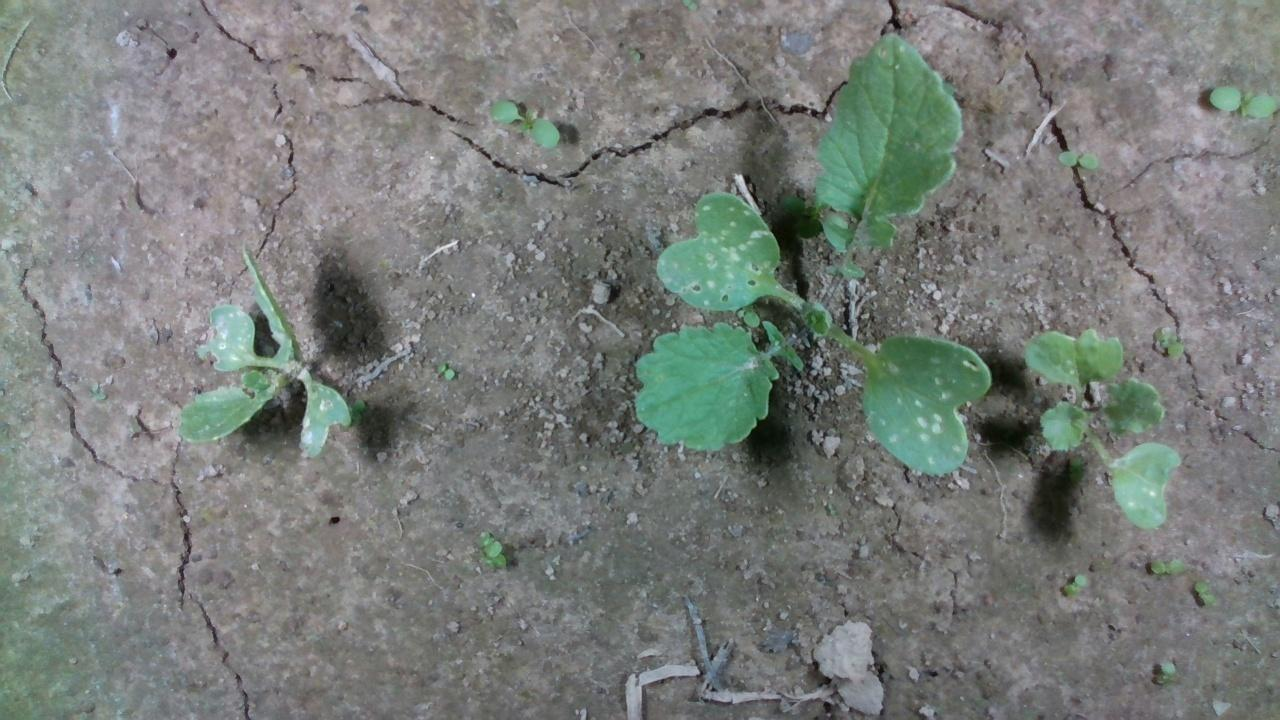weed: (485, 90, 568, 153), (470, 521, 514, 571), (1057, 137, 1099, 177), (1149, 321, 1181, 363), (1149, 549, 1177, 589), (1191, 571, 1219, 608), (1153, 653, 1183, 684), (425, 356, 460, 379), (1060, 565, 1085, 594)
